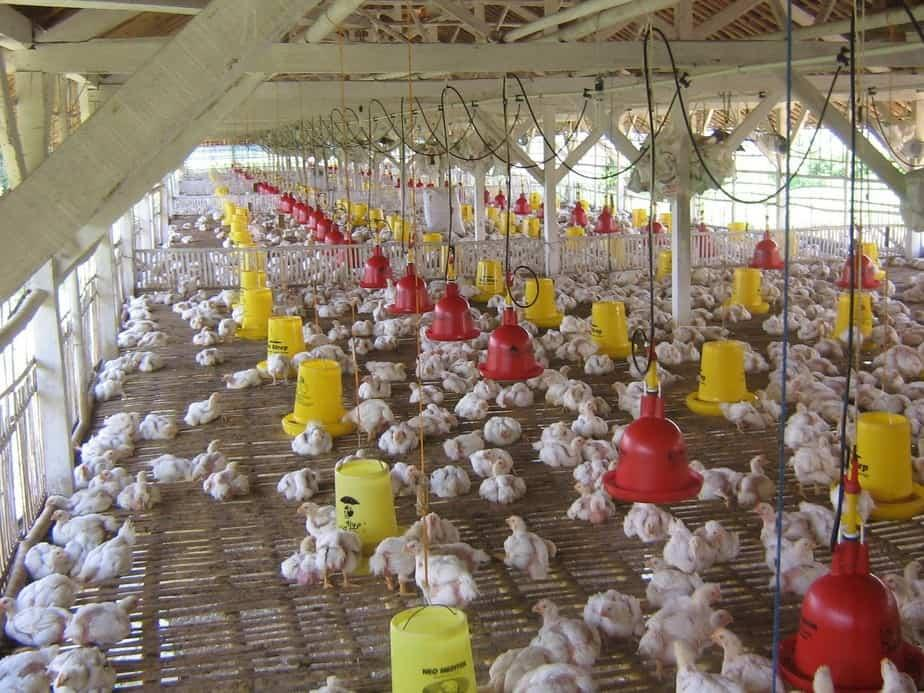chicken: (642, 581, 722, 667), (403, 540, 480, 608), (713, 629, 784, 693), (531, 599, 602, 662), (672, 638, 740, 693), (78, 521, 137, 582), (66, 594, 142, 641), (0, 595, 70, 643), (505, 517, 557, 578), (52, 645, 116, 693), (584, 591, 643, 639), (689, 458, 748, 503), (665, 515, 711, 569), (340, 398, 395, 441), (762, 528, 815, 572), (647, 558, 700, 601), (51, 509, 115, 543), (479, 459, 526, 503), (203, 460, 254, 499), (740, 453, 777, 506), (19, 572, 74, 607), (625, 501, 672, 540), (119, 470, 161, 510), (700, 522, 741, 560), (293, 419, 334, 456), (26, 542, 72, 574), (297, 501, 341, 533), (278, 468, 323, 499), (538, 437, 584, 467), (389, 462, 425, 499), (430, 466, 471, 498), (187, 391, 224, 426), (484, 415, 525, 445), (575, 401, 610, 436), (469, 448, 514, 472), (142, 412, 180, 440), (446, 431, 484, 455), (221, 368, 259, 390), (267, 353, 290, 386), (197, 346, 224, 367)
